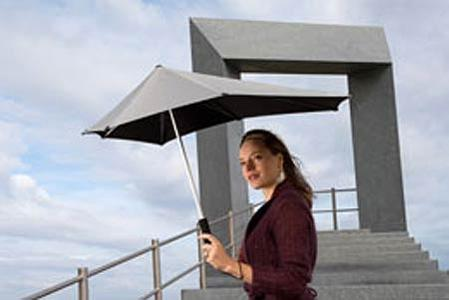person: (197, 130, 320, 300)
